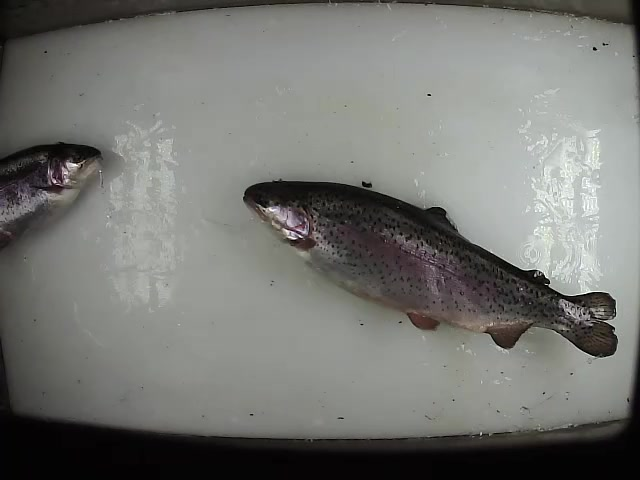fish: (243, 176, 620, 369), (1, 142, 111, 253)
